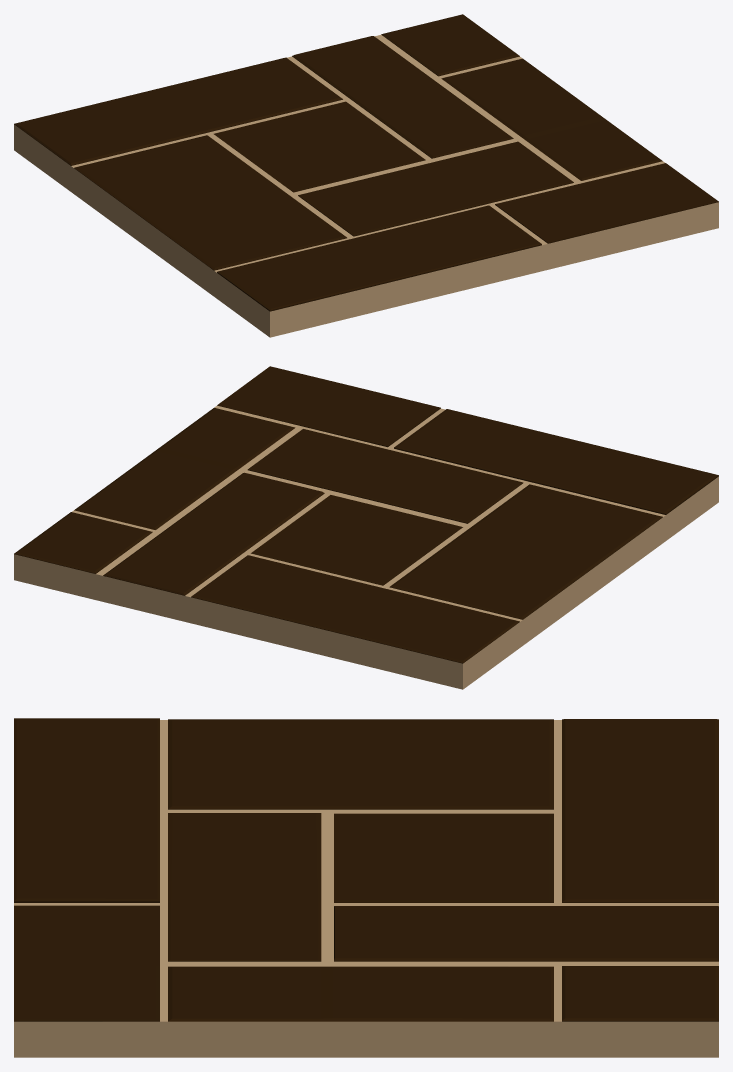
File: suelo1.fbx
3 renders of one model, top to bottom at view 1: azimuth 30°, elevation 25°; view 2: azimuth 150°, elevation 25°; view 3: azimuth 270°, elevation 25°, orthographic. The views are drawn at different scales.
Parts seen in each view (by area): view 1: Cube.021; view 2: Cube.021; view 3: Cube.021.
Part boxes in pixels (x1,y1,x2,y2): Cube.021: (14, 14, 718, 337); Cube.021: (14, 366, 718, 689); Cube.021: (14, 718, 718, 1057).
Size of the model in its own units: 5835 by 343 by 5763.
